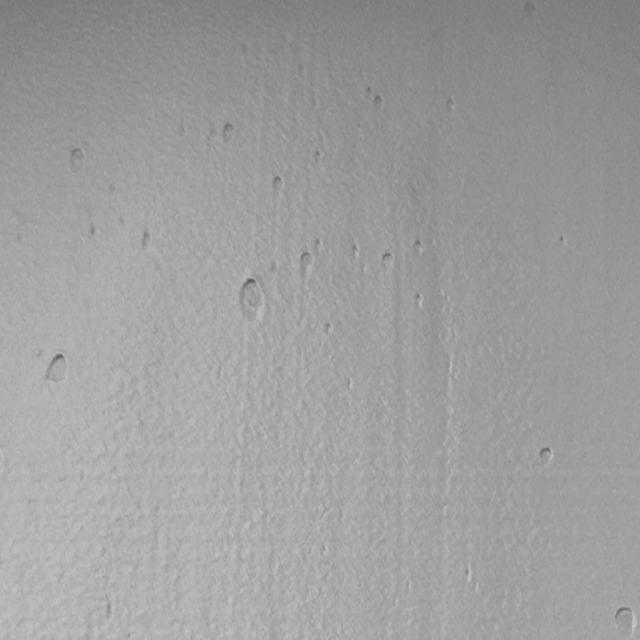pin holes: (237, 275, 269, 326), (44, 351, 74, 386), (612, 604, 637, 640), (67, 146, 88, 175), (296, 248, 315, 278), (535, 444, 556, 470), (218, 120, 238, 145), (458, 563, 478, 588), (138, 228, 157, 254), (269, 175, 288, 200), (519, 1, 540, 23), (442, 95, 461, 119), (380, 250, 396, 276), (410, 292, 426, 312), (411, 236, 425, 257), (348, 242, 361, 262), (311, 236, 323, 254), (270, 256, 280, 277), (372, 94, 385, 110), (555, 233, 568, 249), (312, 150, 325, 166), (88, 224, 100, 240), (324, 322, 336, 337), (118, 215, 130, 230), (365, 85, 377, 100)
